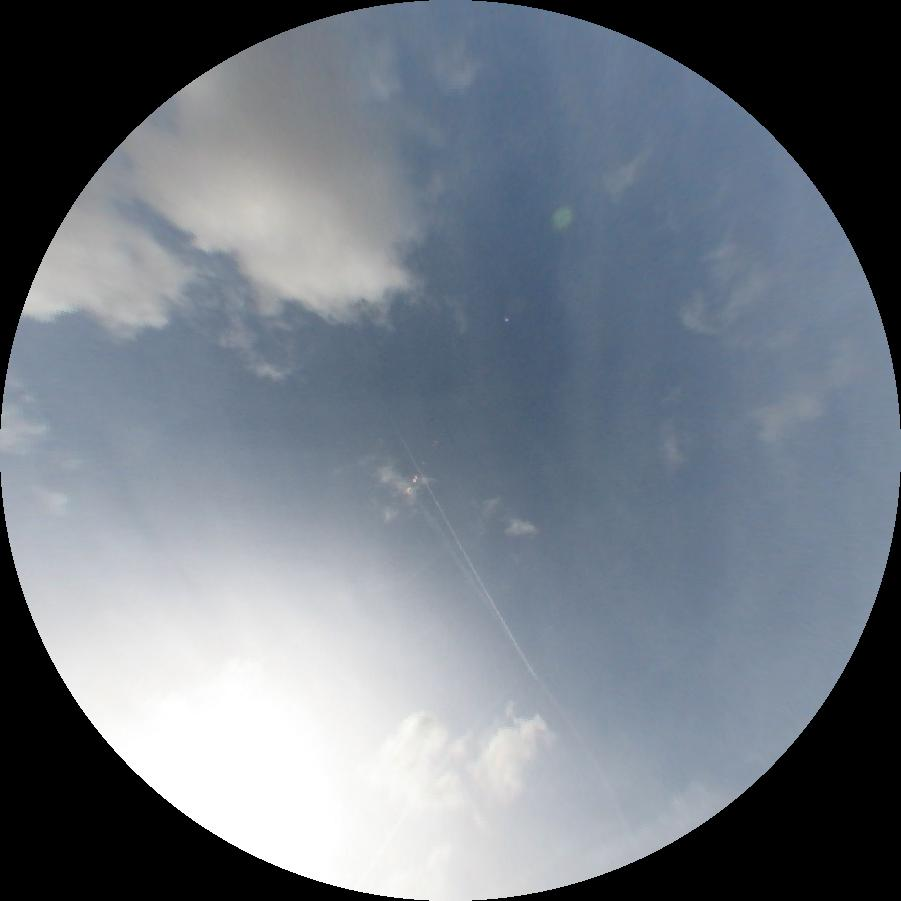contrail old: (417, 499, 630, 828)
contrail young: (379, 398, 538, 680)
sun: (70, 650, 345, 878)
